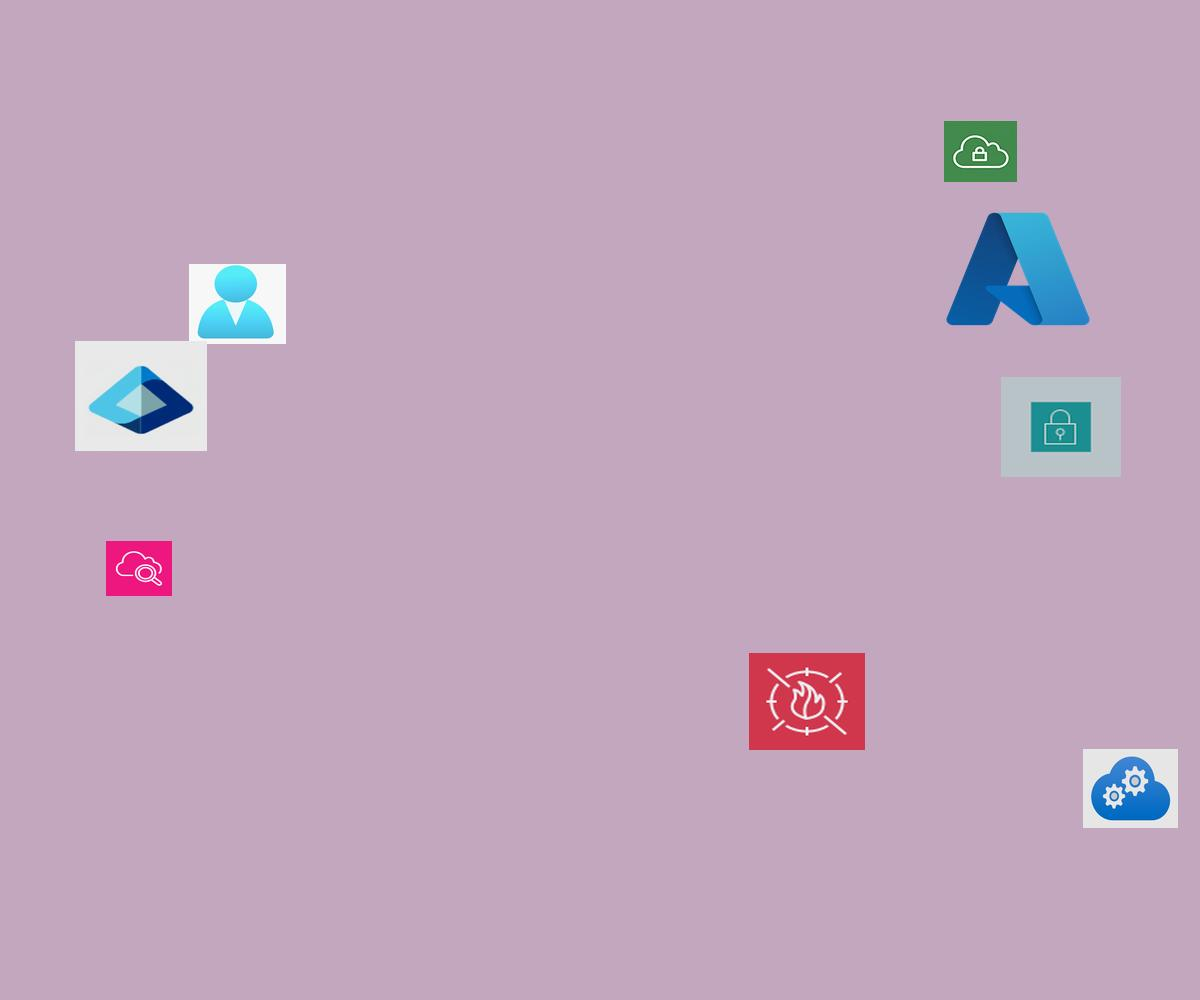AWS-CloudWatch: (106, 541, 172, 596)
AWS-Private-subnet: (1001, 377, 1121, 477)
AWS-Private_vpc: (944, 121, 1017, 182)
AWS-WAF: (749, 653, 865, 750)
Azure_cloud_services: (1083, 749, 1178, 828)
Azure_microsoft_entra: (75, 341, 207, 451)
Azure_services: (940, 204, 1096, 334)
Azure_users: (189, 264, 286, 344)
